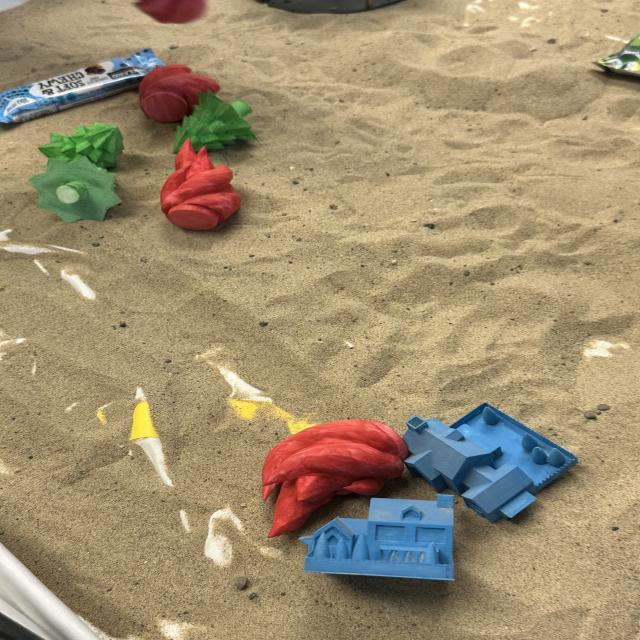fire: (258, 416, 409, 538), (158, 136, 242, 232), (138, 65, 220, 117), (136, 0, 208, 22)
house: (406, 404, 579, 520), (296, 492, 459, 584)
tree: (28, 158, 128, 225), (164, 89, 252, 154), (38, 119, 128, 164)
